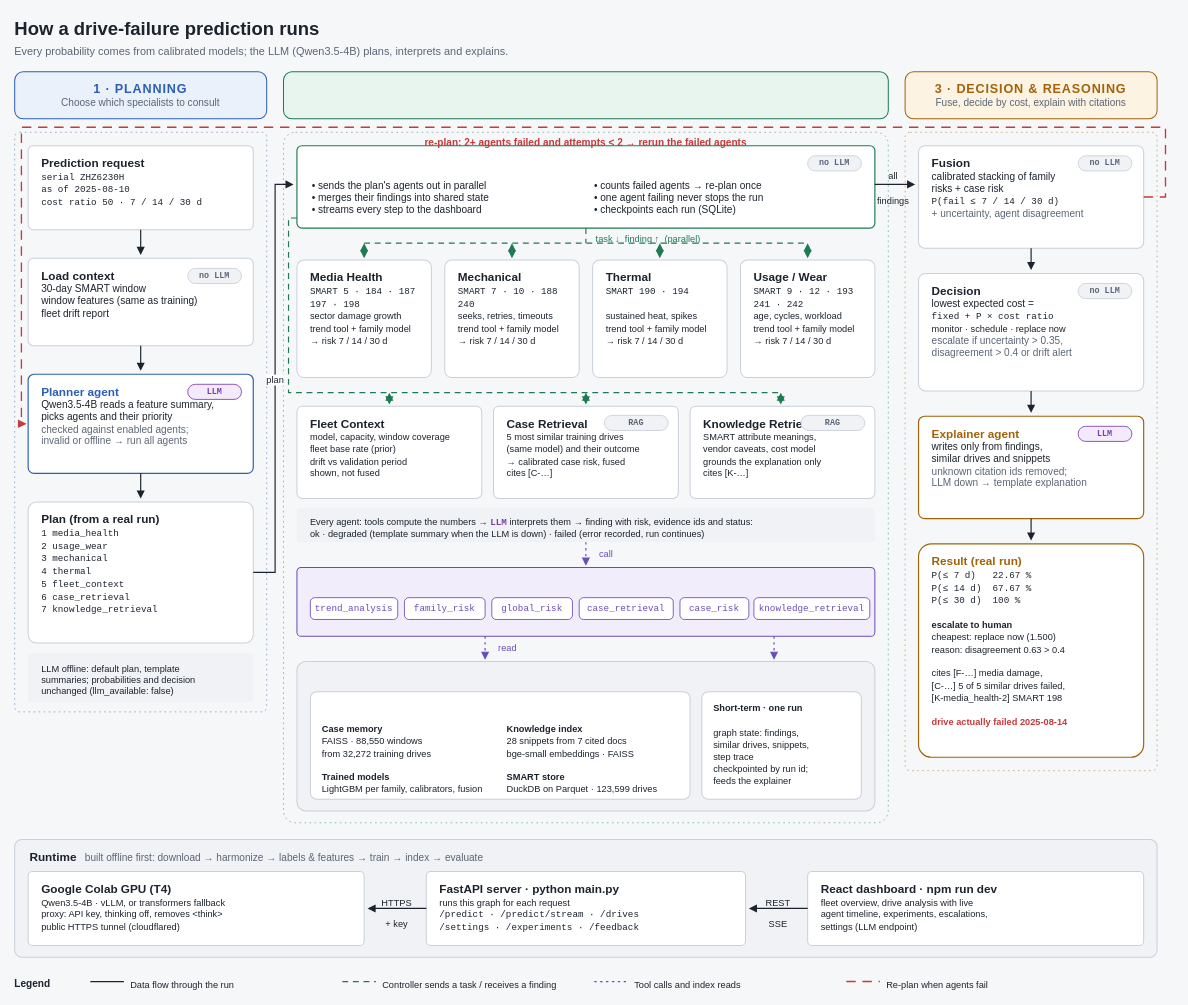
The diagram is 1188 pixels wide and 1005 high, and some of its shapes have lost their labels. The shapes that lost their labels are listed below. From the top down, each one's box as (x1, y1, x2, y2) in pixels, then its label:
(283, 71, 888, 119): 2 · INVESTIGATION (CORE) Collect evidence per SMART family, in parallel
(296, 145, 875, 228): Controller (orchestrator) LangGraph state machine
(296, 566, 875, 636): Tool library Python, no LLM: every number comes from here
(309, 691, 690, 799): Long-term · built offline from training / validation data only
(296, 661, 875, 811): Knowledge & memory
